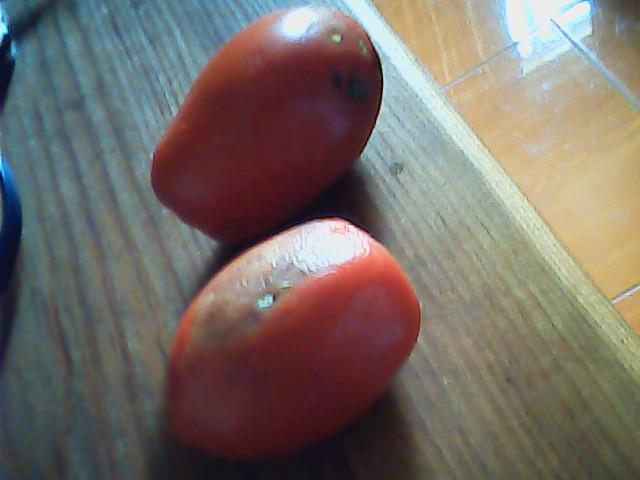defectuoso: (156, 218, 419, 464), (149, 7, 381, 244)
